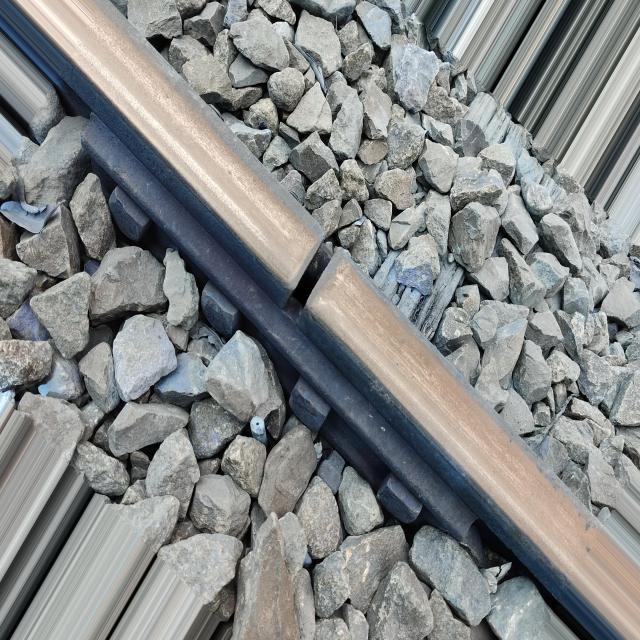Good Joint: (82, 112, 485, 565)
